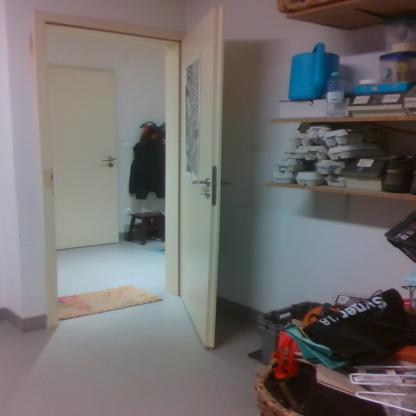open: (33, 23, 206, 331)
